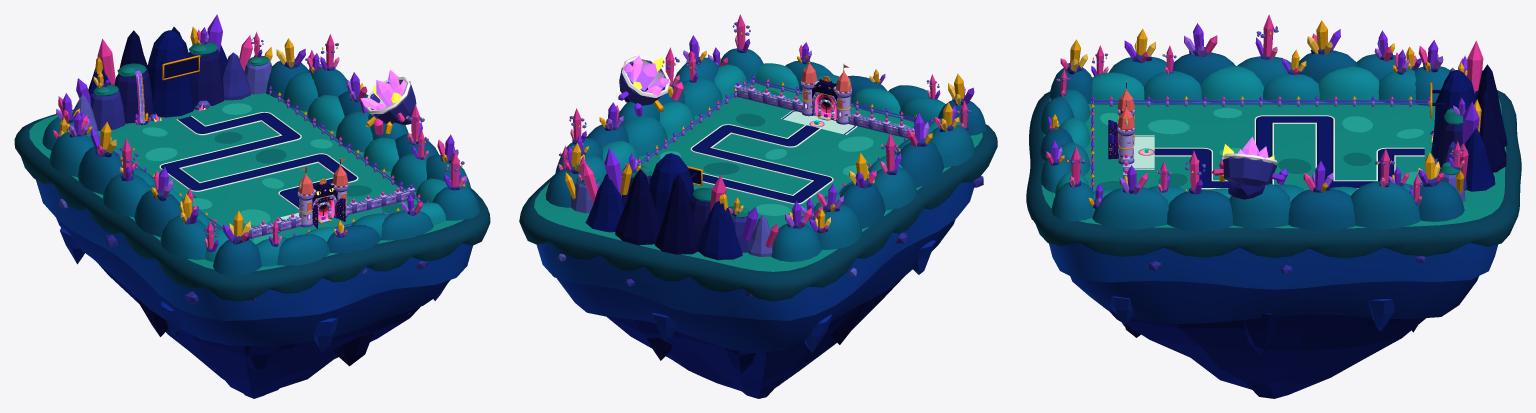
Rendered from crystal_belt_base.fbx.
The picture shows the model from 3 angles, left to right: view 1: azimuth 30°, elevation 25°; view 2: azimuth 150°, elevation 25°; view 3: azimuth 270°, elevation 25°; orthographic projection. The views are drawn at different scales.
Parts seen in each view (by area): view 1: Base_Cliff, Base_Backdrop, Base_Ground, Base_Trees, Base_Road, Base_Gate, Base_Dressing, Base_Glow, Base_GateTrim; view 2: Base_Cliff, Base_Backdrop, Base_Ground, Base_Trees, Base_Road, Base_Gate, Base_Dressing, Base_Glow, Base_GateTrim; view 3: Base_Cliff, Base_Backdrop, Base_Ground, Base_Trees, Base_Road, Base_Dressing, Base_Gate, Base_GateTrim, Base_Glow.
Boxes of the visible parts, <box> form: Base_Cliff: <box>14,109,490,398</box>; Base_Backdrop: <box>42,14,479,275</box>; Base_Ground: <box>29,93,463,271</box>; Base_Trees: <box>53,27,466,252</box>; Base_Road: <box>159,112,358,220</box>; Base_Gate: <box>248,158,415,239</box>; Base_Dressing: <box>119,86,428,236</box>; Base_Glow: <box>153,69,406,121</box>; Base_GateTrim: <box>298,158,348,211</box>; Base_Cliff: <box>519,124,997,398</box>; Base_Backdrop: <box>545,48,986,261</box>; Base_Ground: <box>534,83,982,271</box>; Base_Trees: <box>558,14,974,233</box>; Base_Road: <box>690,110,857,204</box>; Base_Gate: <box>734,55,914,138</box>; Base_Dressing: <box>621,75,932,204</box>; Base_Glow: <box>623,55,669,95</box>; Base_GateTrim: <box>801,56,851,126</box>; Base_Cliff: <box>1026,90,1521,398</box>; Base_Backdrop: <box>1040,40,1507,231</box>; Base_Ground: <box>1041,98,1506,228</box>; Base_Trees: <box>1046,14,1467,209</box>; Base_Road: <box>1129,115,1424,189</box>; Base_Dressing: <box>1090,96,1430,191</box>; Base_Gate: <box>1108,81,1154,179</box>; Base_GateTrim: <box>1117,90,1153,154</box>; Base_Glow: <box>1222,132,1434,159</box>.
Bounding box in the file's own units: 188 × 179 × 244.
